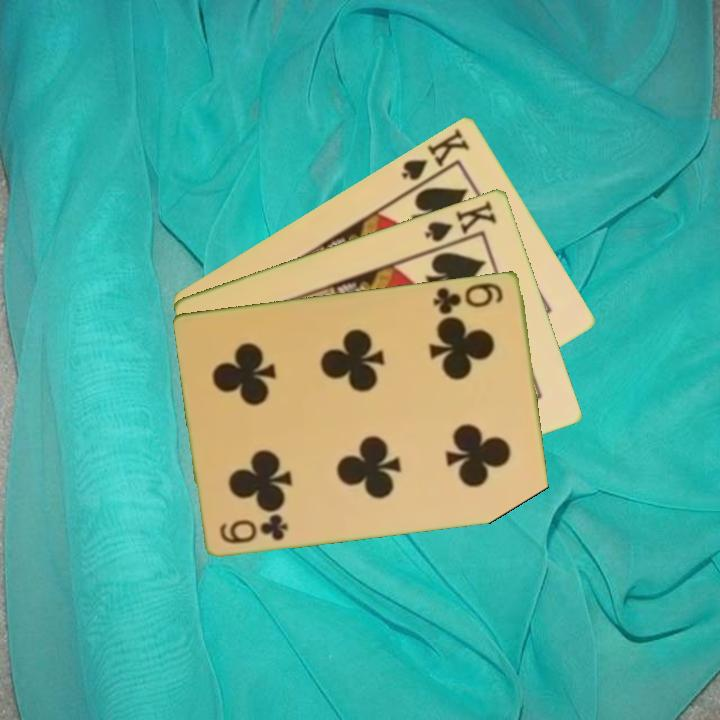6c: (429, 278, 507, 317), (216, 511, 292, 546)
Ks: (421, 195, 500, 252), (397, 124, 473, 183)
